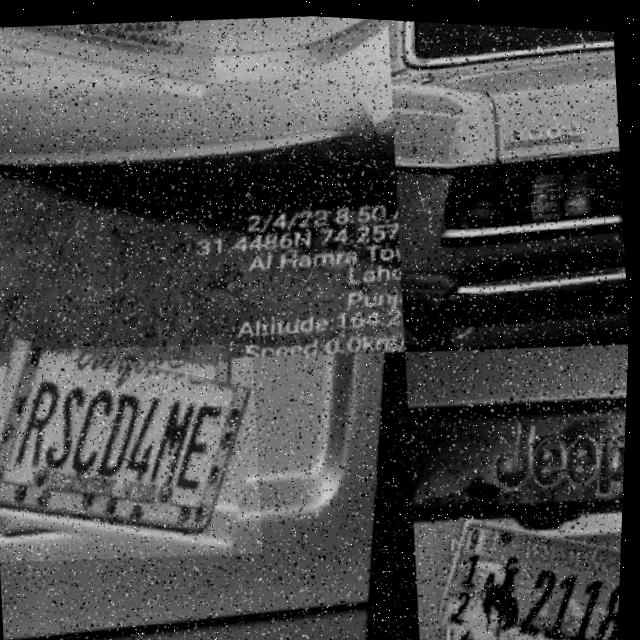LicensePlate: (0, 329, 272, 572), (442, 514, 625, 640), (0, 8, 216, 102)
